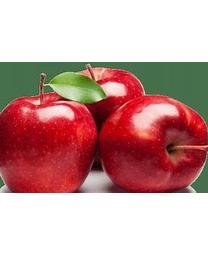apple: (1, 72, 98, 194), (98, 94, 207, 191), (67, 65, 145, 130)
